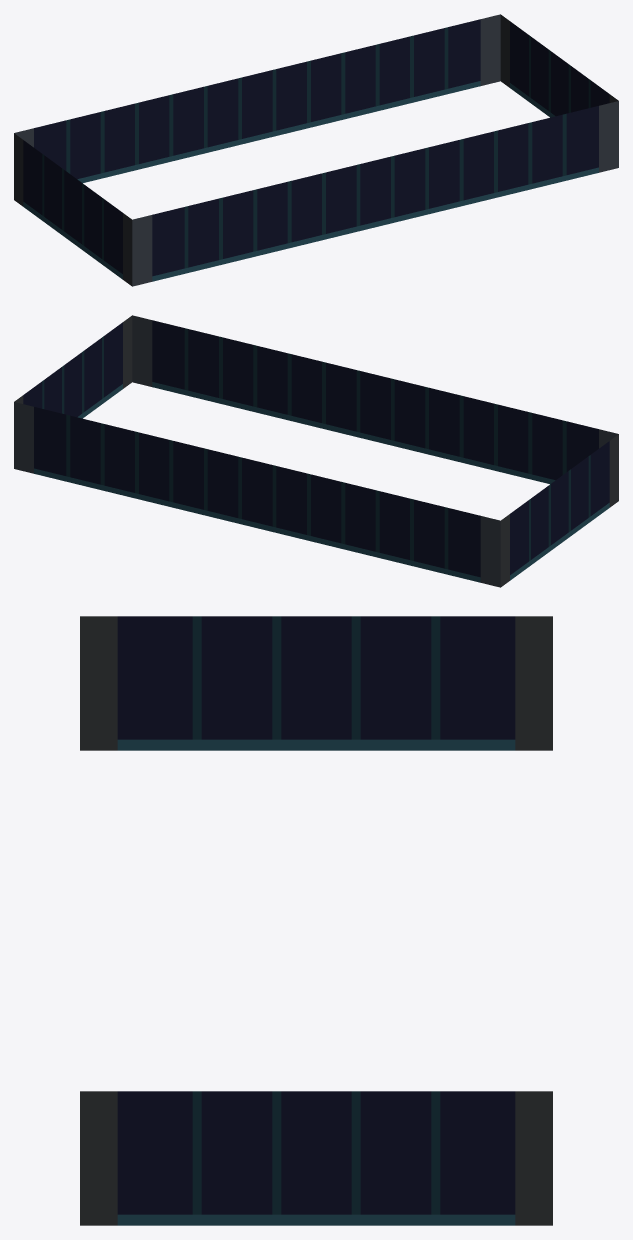
Rendered from TB_CITY_Skysc_C_BodyA_Blue.FBX.
3 views of the same model, one above another, from view 1: azimuth 30°, elevation 25°; view 2: azimuth 150°, elevation 25°; view 3: azimuth 270°, elevation 25° (orthographic). The views are drawn at different scales.
Visible parts, largest first — view 1: TB_CITY_Skysc_C_BodyA_Blue; view 2: TB_CITY_Skysc_C_BodyA_Blue; view 3: TB_CITY_Skysc_C_BodyA_Blue.
Part boxes in pixels (x1,y1,x2,y2): TB_CITY_Skysc_C_BodyA_Blue: (14,14,618,286); TB_CITY_Skysc_C_BodyA_Blue: (14,315,618,587); TB_CITY_Skysc_C_BodyA_Blue: (80,616,552,1225).
Bounding box in the file's own units: 38 × 5 × 16.
